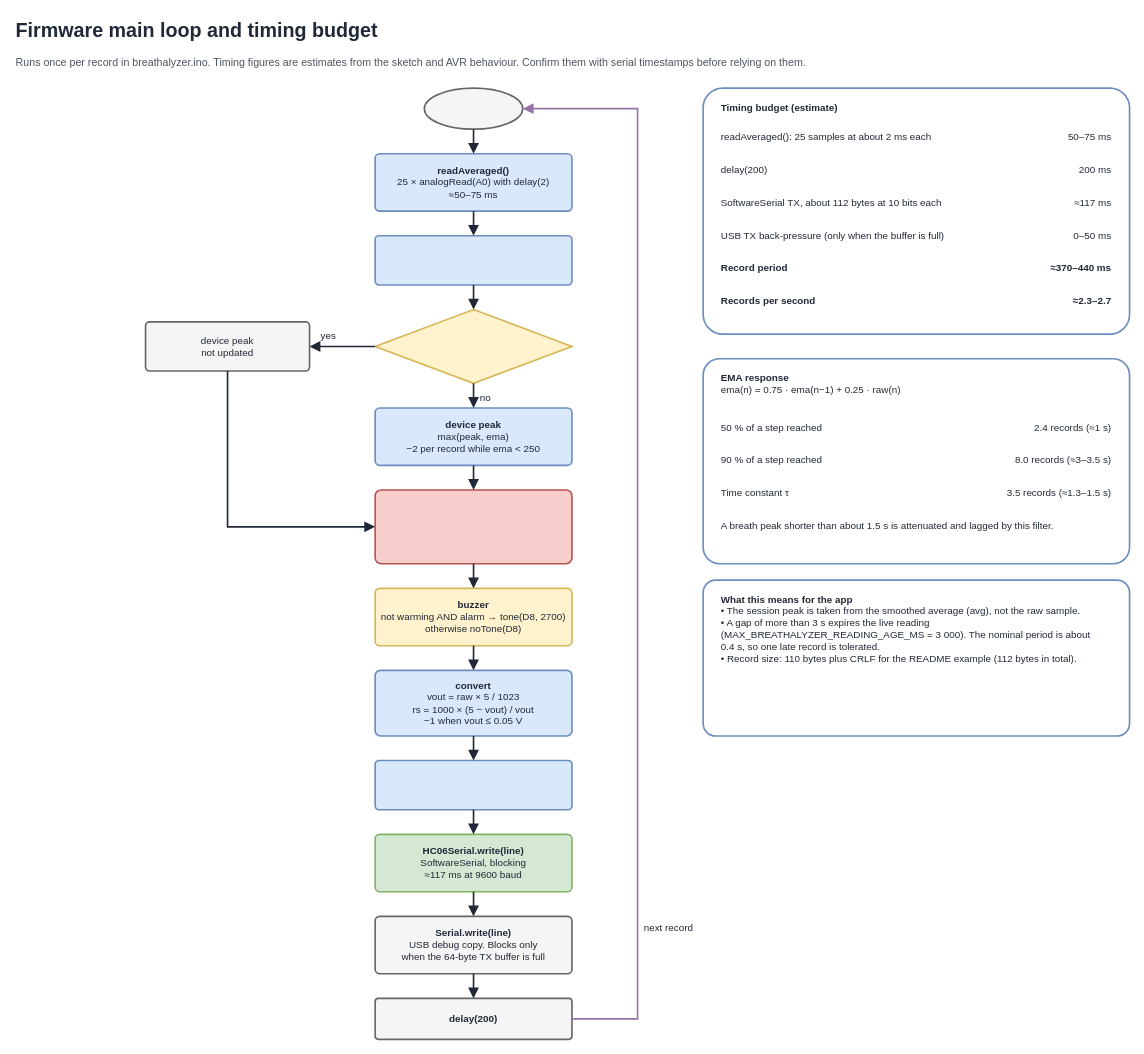
Image size: 1144x1054. Some labels were removed from this diagram. Here are the shapes that lost their labels. From the top down, the centre of each, then its label:
the point at 473,108: loop()
the point at 473,260: ema = (3·ema + raw) / 4 integer smoothing
the point at 473,346: warming? millis() − bootMs < 60 000
the point at 473,526: alarm latch ema > 350 → alarm = true alarm and ema < 330 → alarm = false
the point at 473,784: snprintf JSON line + CRLF, about 102–112 bytes
